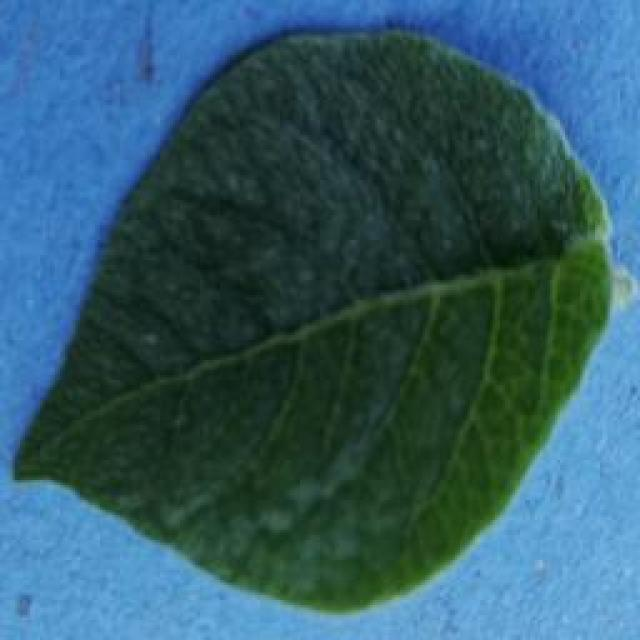Potato_Healthy: (14, 31, 624, 614)
